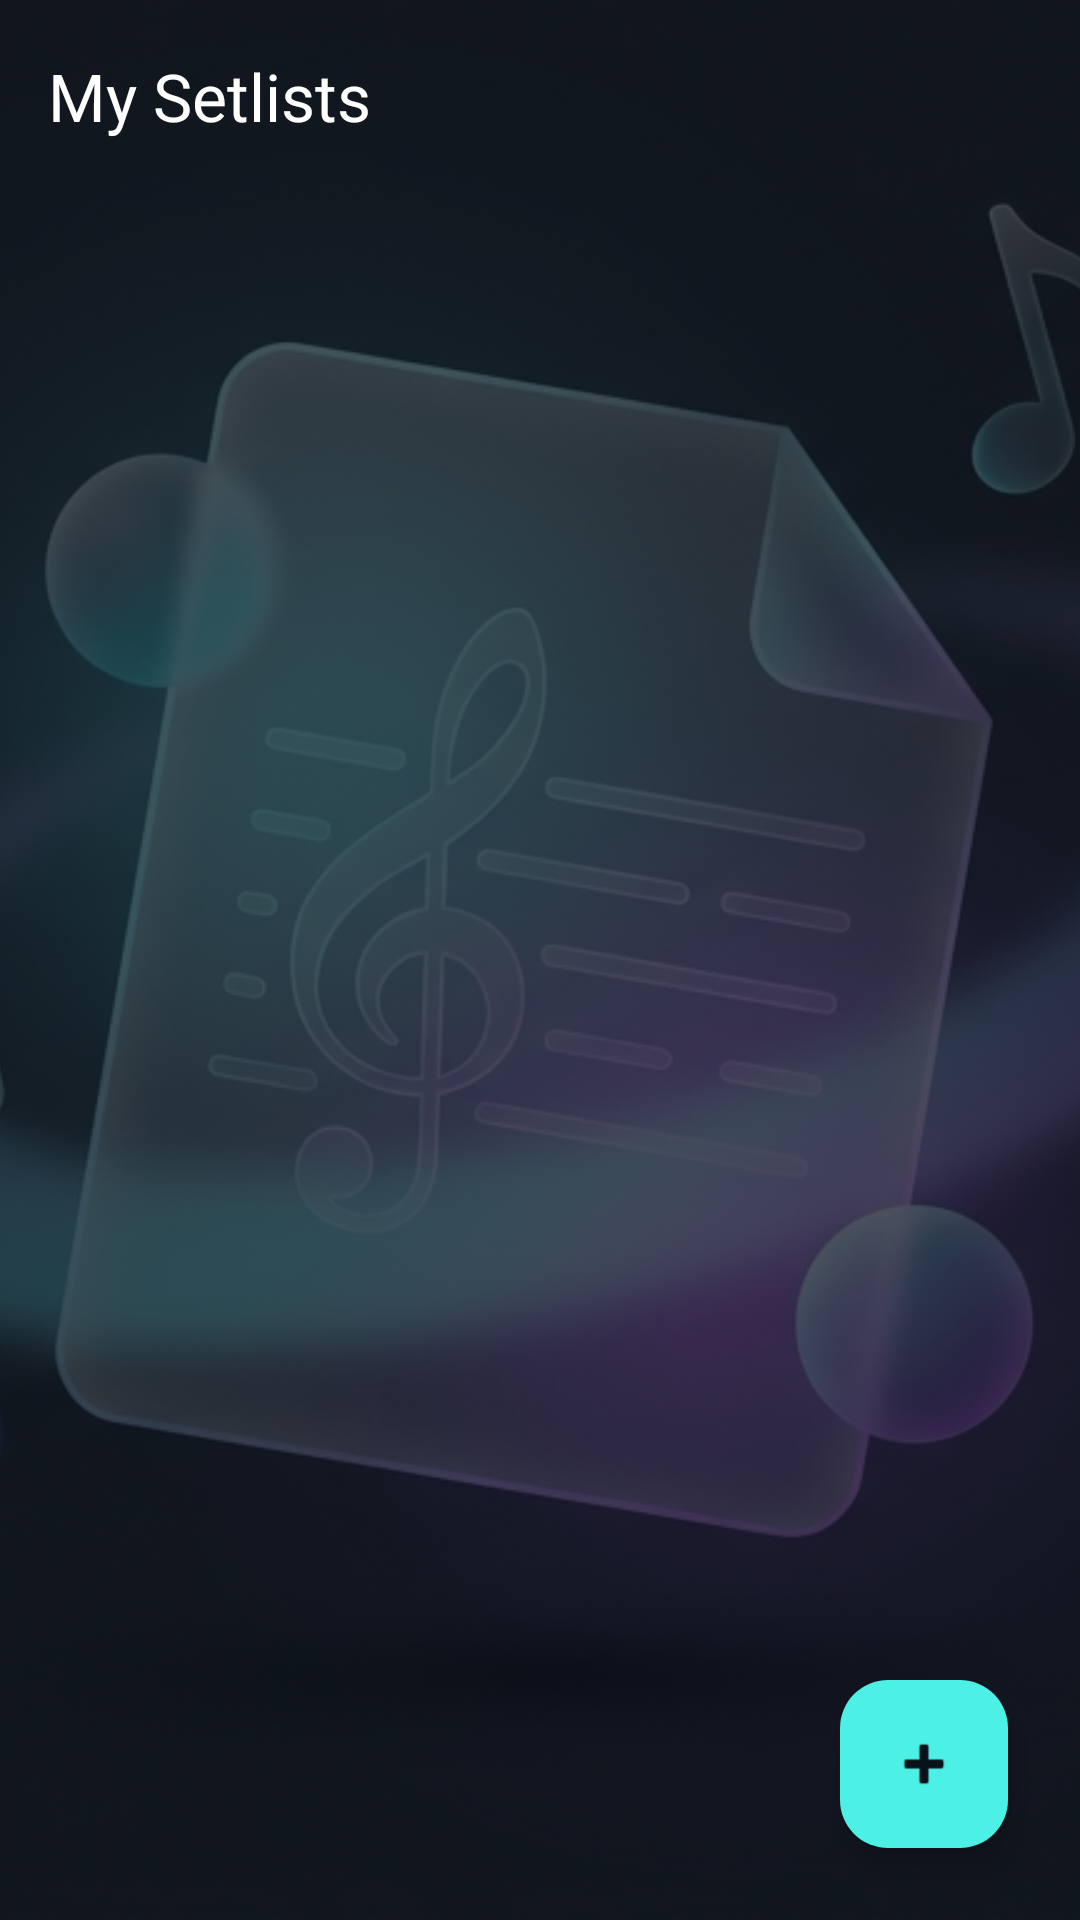

Icon bounding boxes for this 1080px×1920px phone screenshot, format [x1=x1, y1=y1, x2=x2, y2=y2]:
Create new setlist: [x1=840, y1=1680, x2=1008, y2=1848]
